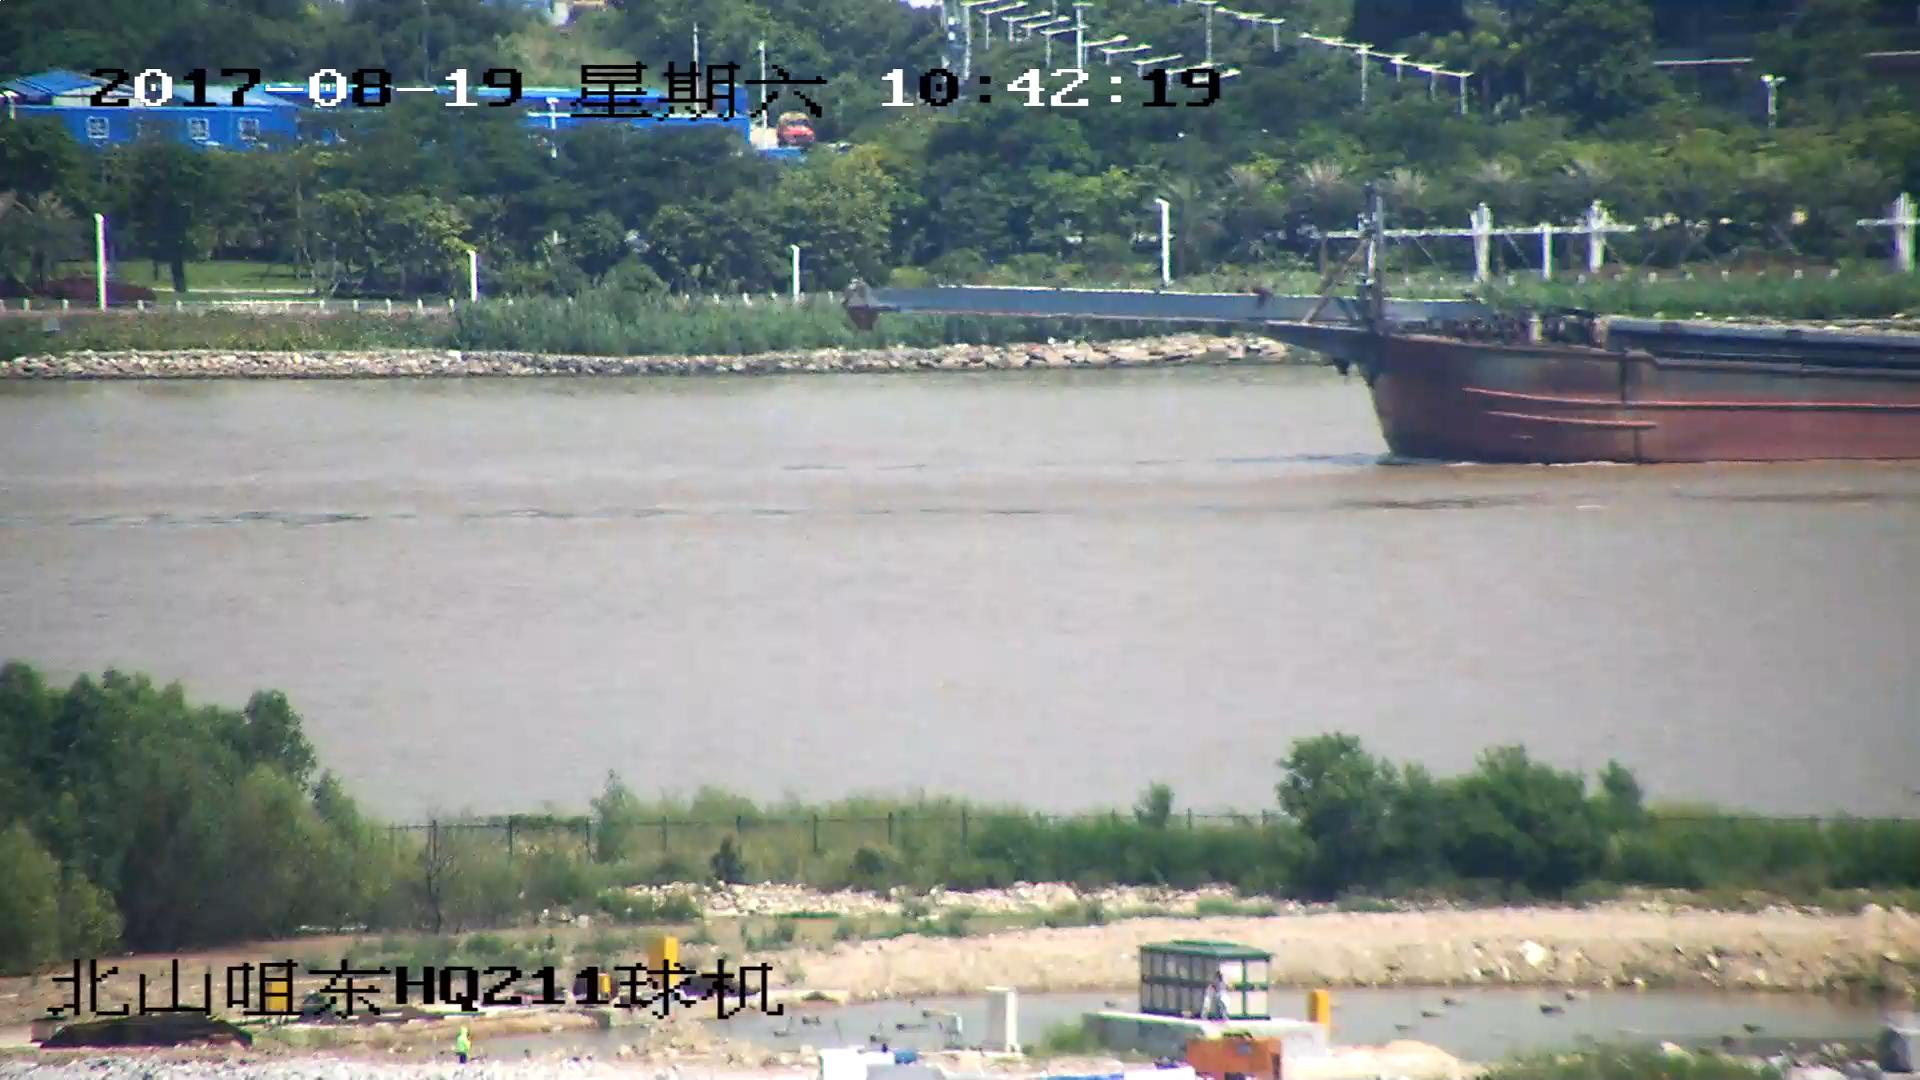bulk cargo carrier: (842, 211, 1920, 464)
